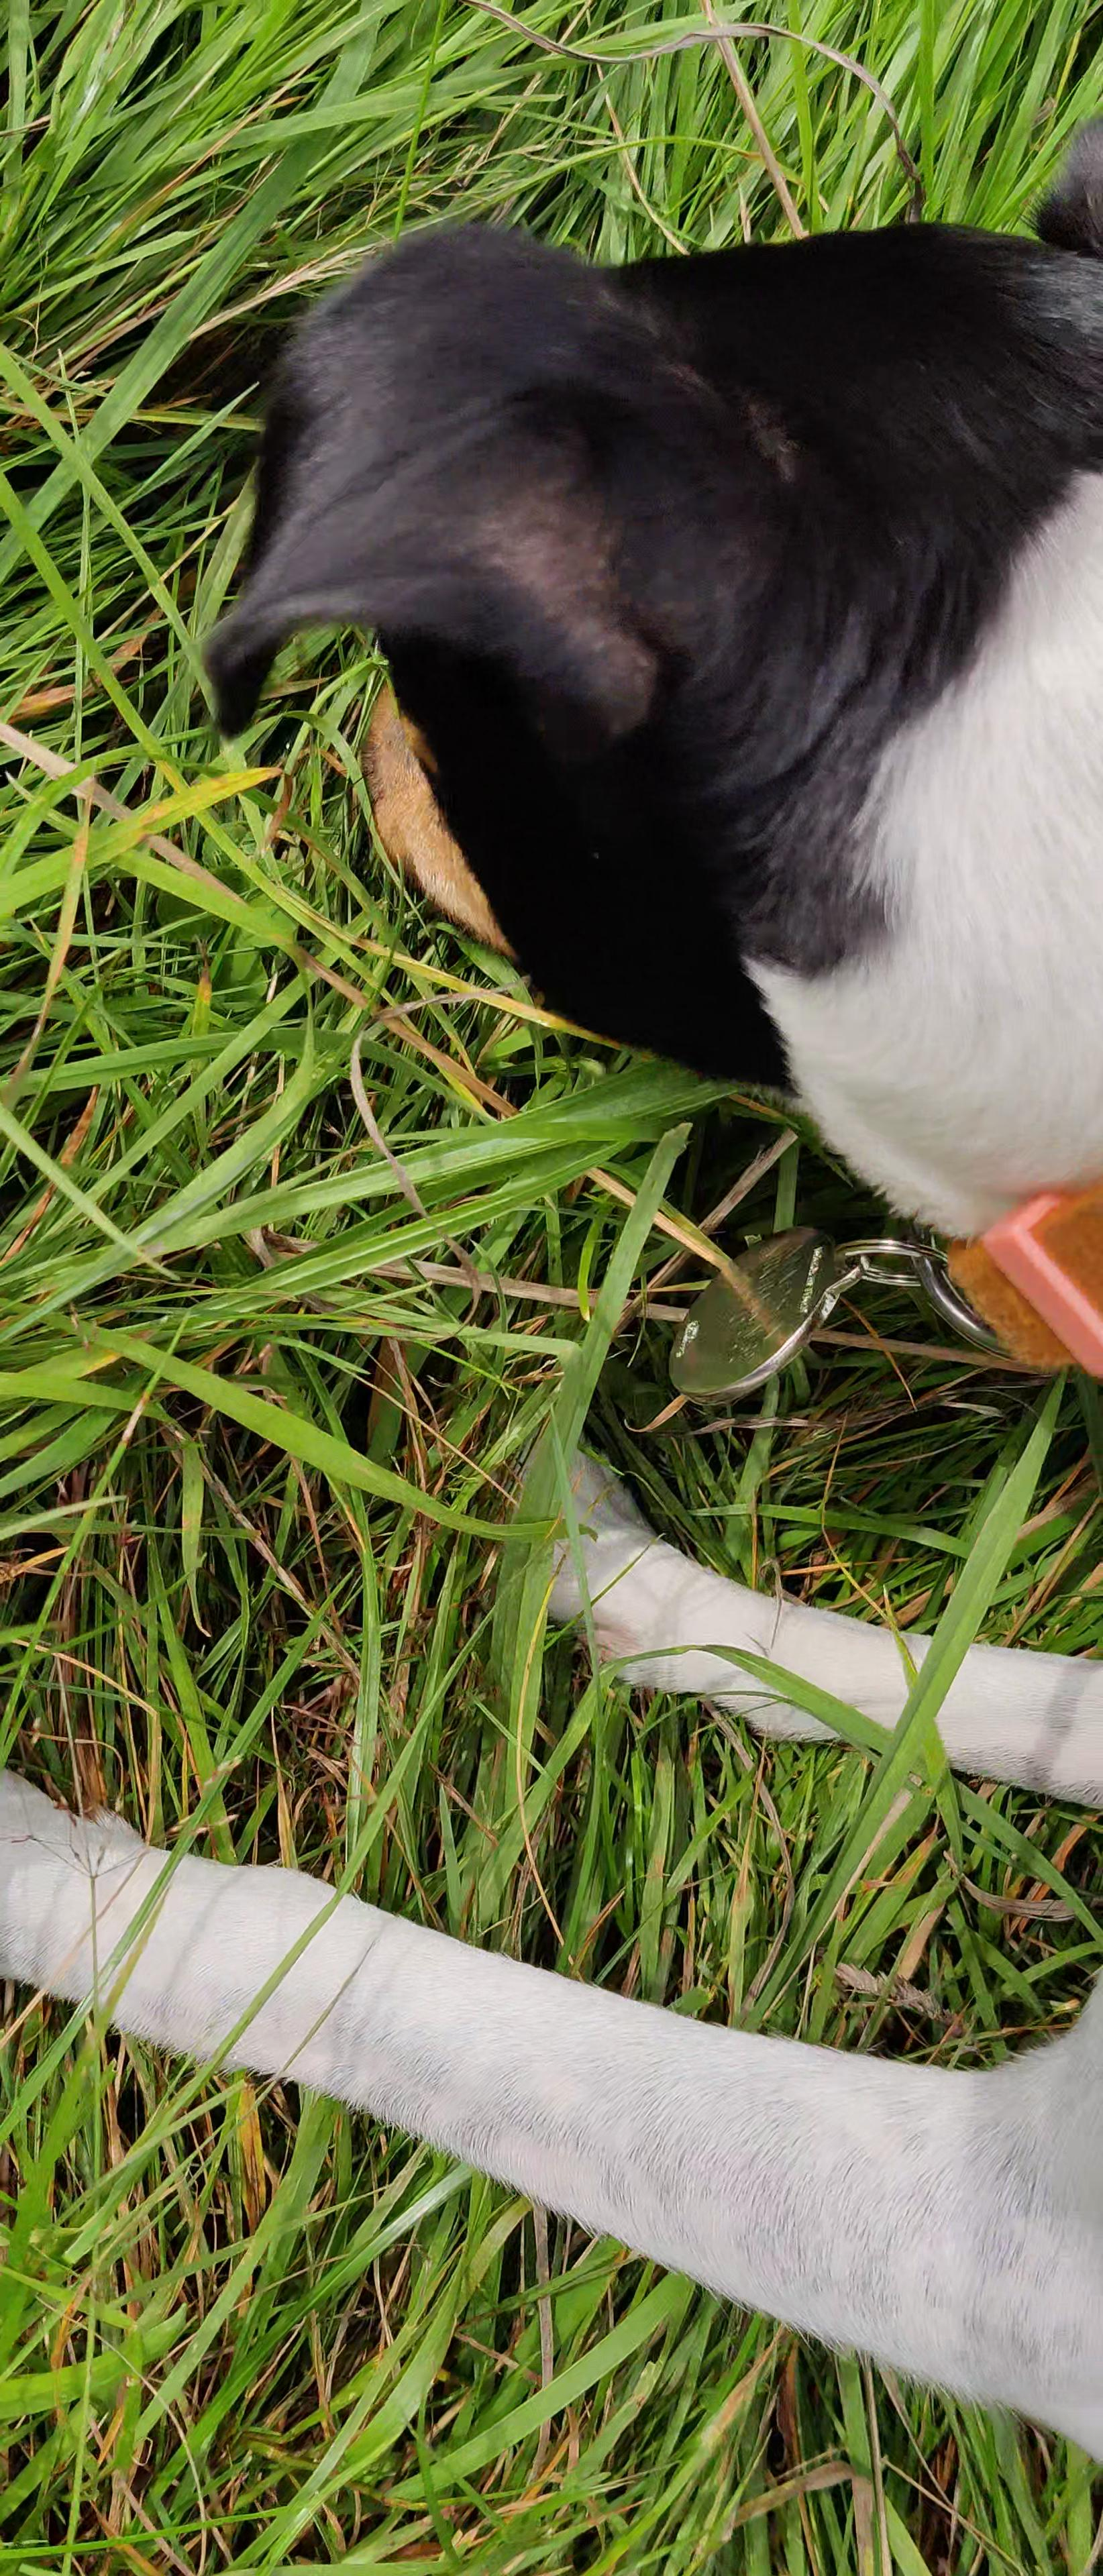Dog: (0, 99, 1103, 2461)
